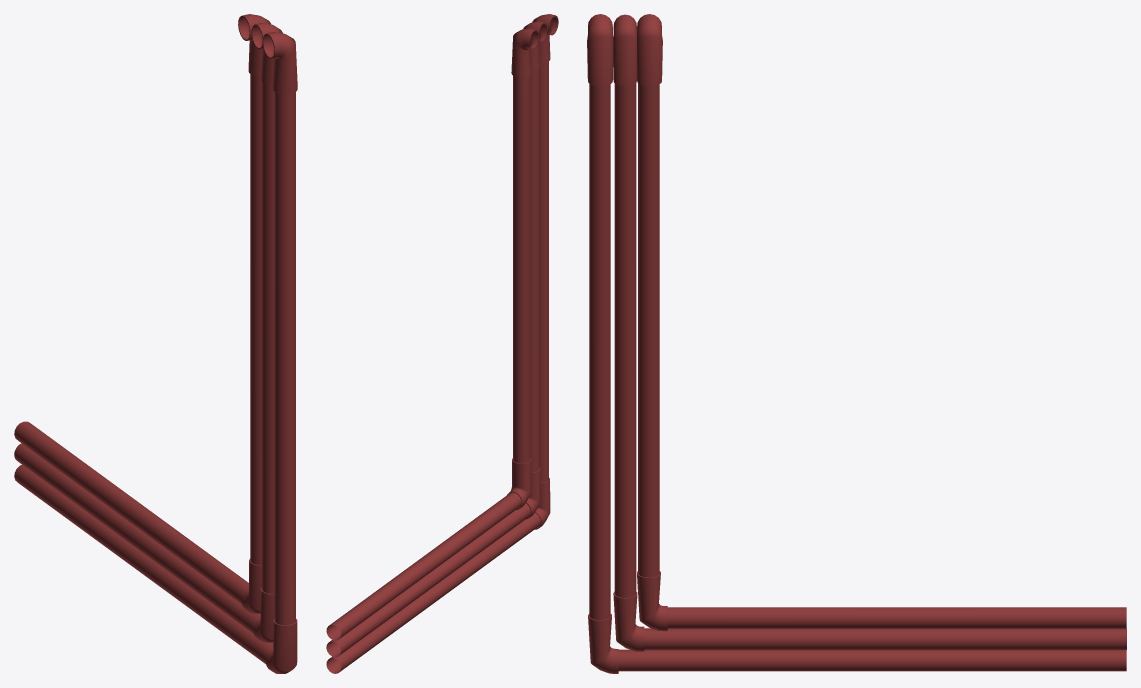
File: Cañerias.fbx
3 views of the same model, side by side, from view 1: azimuth 30°, elevation 25°; view 2: azimuth 150°, elevation 25°; view 3: azimuth 270°, elevation 25° (orthographic). The views are drawn at different scales.
Visible parts, largest first — view 1: polySurface105; view 2: polySurface105; view 3: polySurface105.
Boxes of the visible parts, left/top/right/bottom form: polySurface105: left=14, top=14, right=297, bottom=673; polySurface105: left=326, top=14, right=558, bottom=673; polySurface105: left=587, top=14, right=1126, bottom=673.
Bounding box in the file's own units: 28 × 625 × 470.
